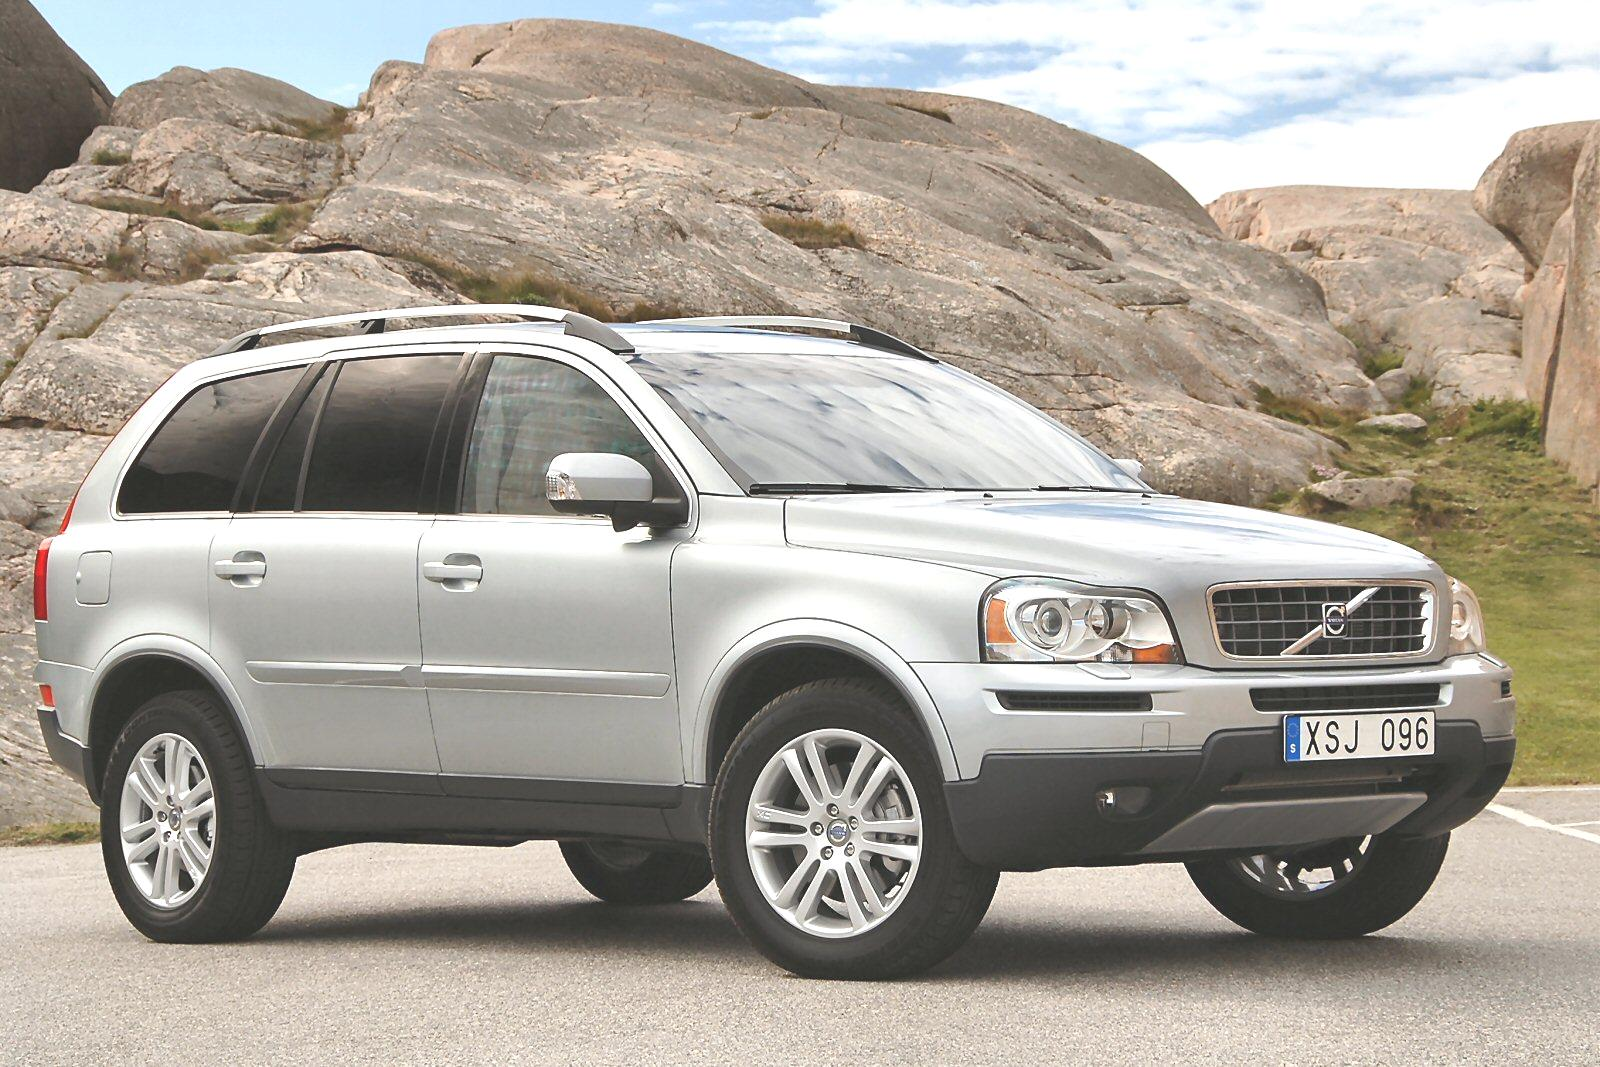volvo: (1301, 587, 1370, 650)
